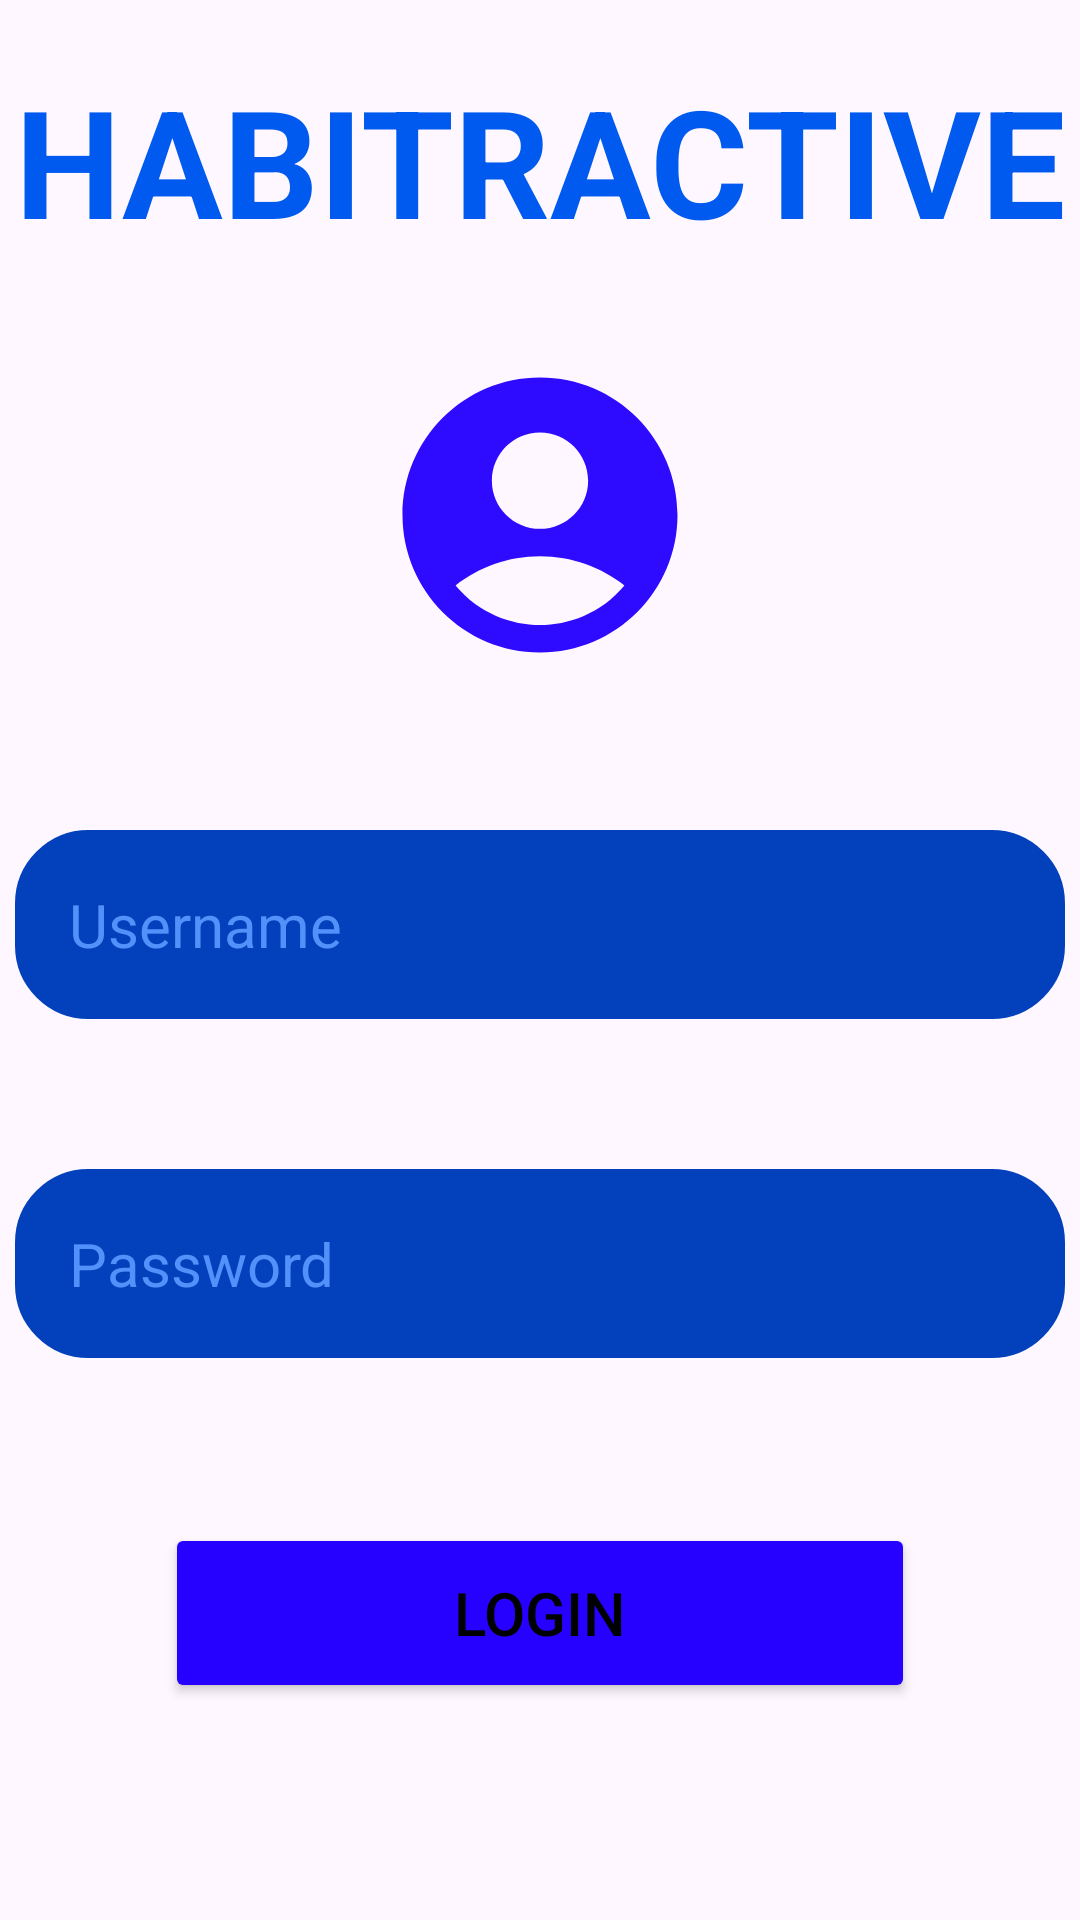

Locate icon controls on the screen. Image size 1080px×1920px, boxes as (x1, y1, x2, y2).
account: (402, 377, 678, 653)
